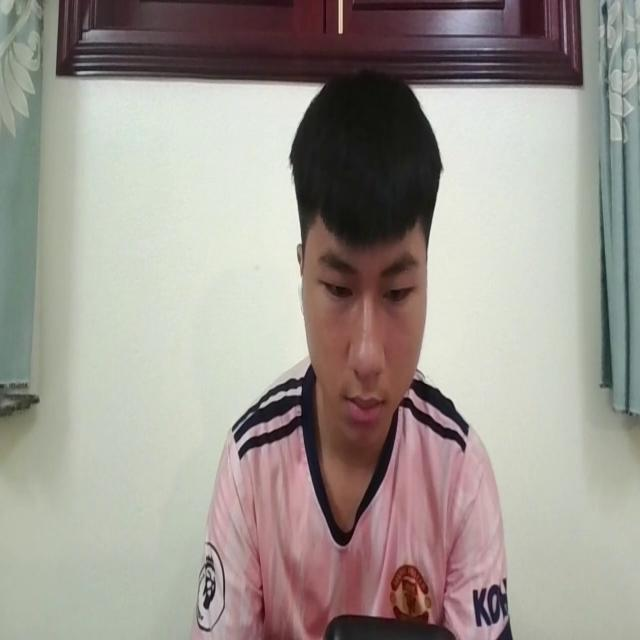student: (182, 59, 514, 640)
